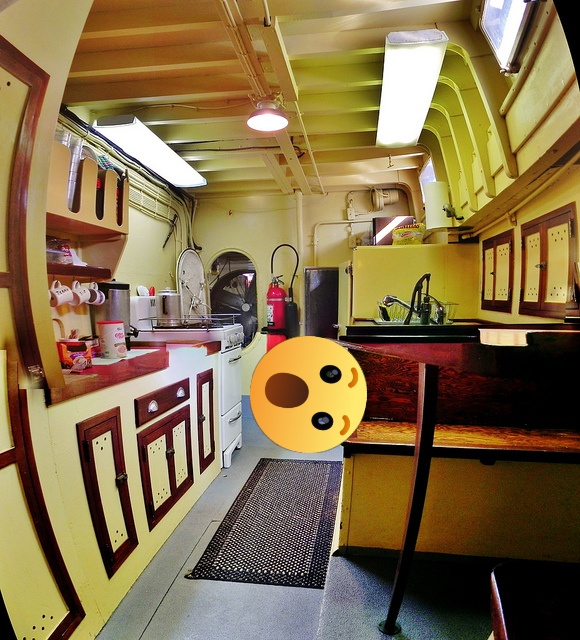wow: (250, 336, 367, 453)
